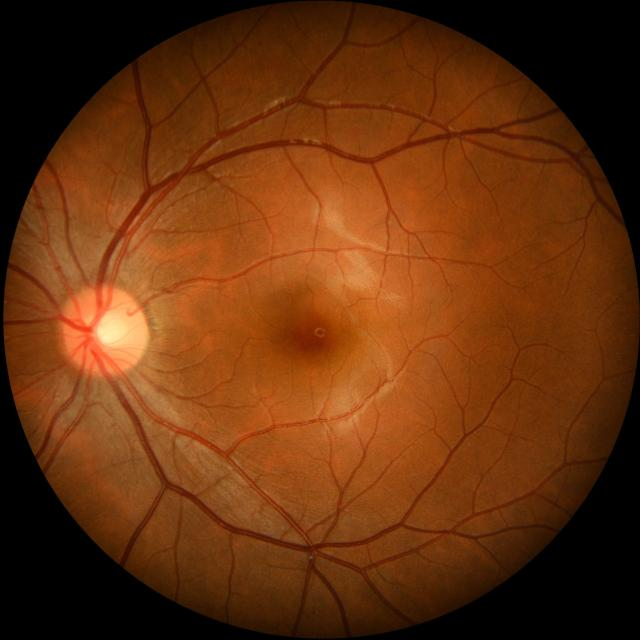OC: (95, 309, 128, 348)
OD: (60, 285, 147, 374)
